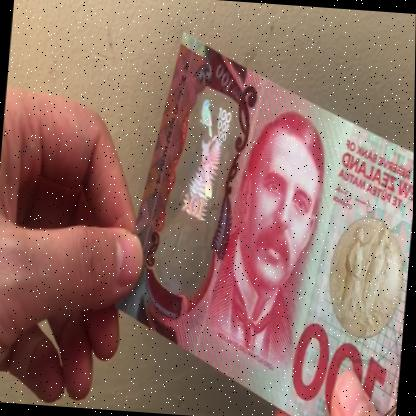100F: (156, 94, 235, 306)
